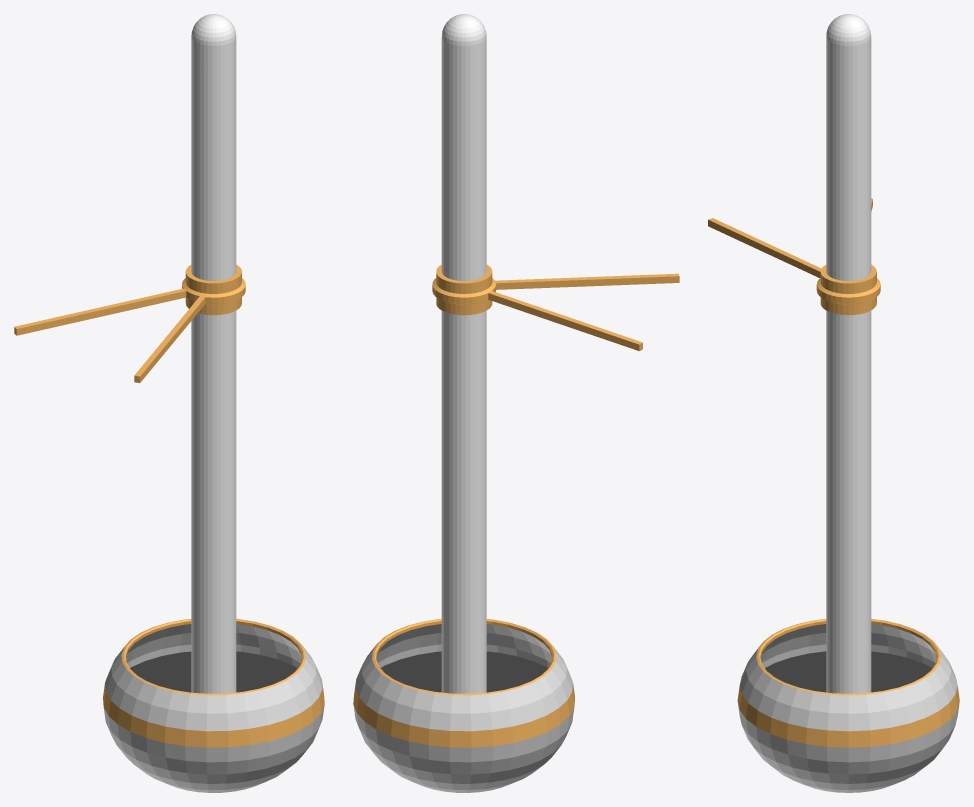
File: Barometer.glb
The picture shows the model from 3 angles, left to right: view 1: azimuth 30°, elevation 25°; view 2: azimuth 150°, elevation 25°; view 3: azimuth 270°, elevation 25°; orthographic projection.
Parts seen in each view (by area): view 1: Sphere.002, Sphere.003, BarometerWater; view 2: Sphere.002, Sphere.003, BarometerWater; view 3: Sphere.002, Sphere.003, BarometerWater.
Boxes of the visible parts, <box> form: Sphere.002: <box>14,14,245,693</box>; Sphere.003: <box>103,618,324,792</box>; BarometerWater: <box>130,651,297,692</box>; Sphere.002: <box>432,14,679,693</box>; Sphere.003: <box>353,618,574,792</box>; BarometerWater: <box>380,651,547,692</box>; Sphere.002: <box>708,14,880,693</box>; Sphere.003: <box>737,619,959,792</box>; BarometerWater: <box>765,651,931,692</box>.
Size of the model in its own units: 2.77 by 7.05 by 2.12.
